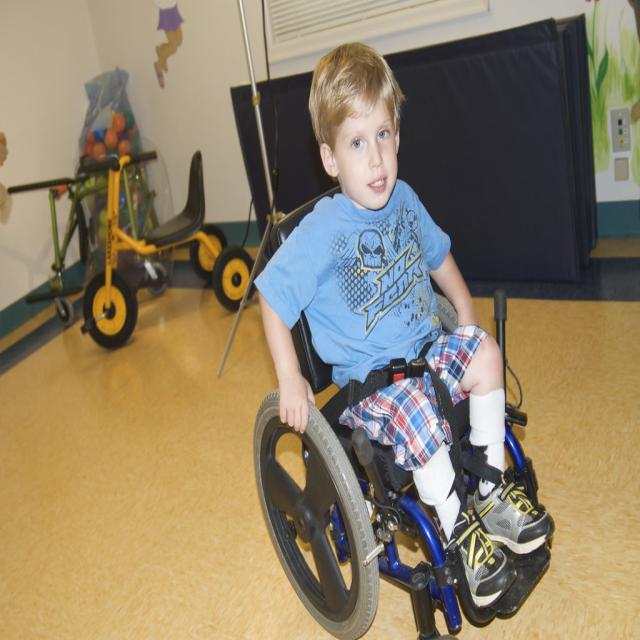wheelchairs: (249, 223, 563, 640)
